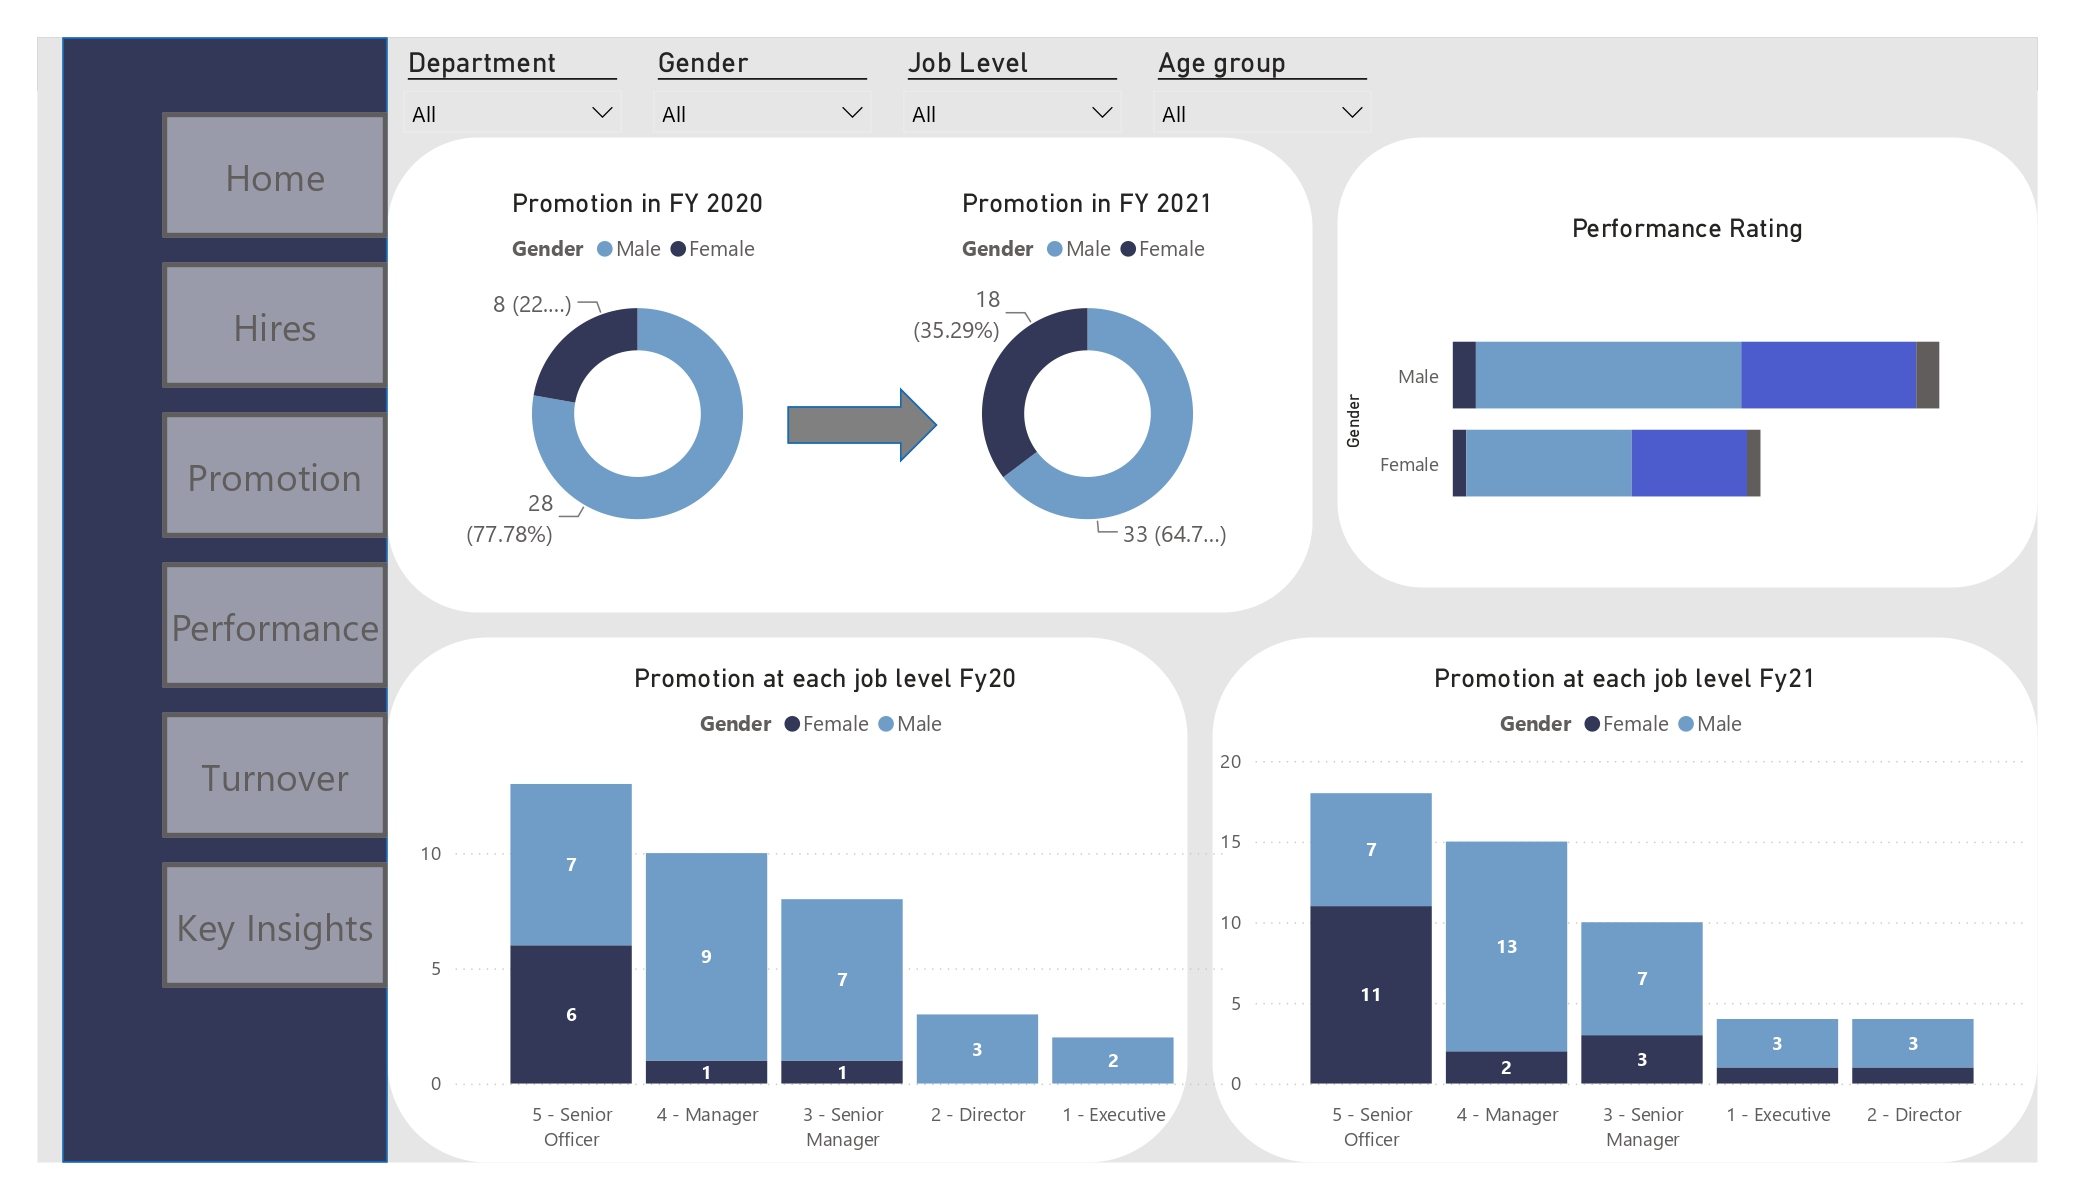

Layout of this report page (visuals, bound fields, positions):
{"tool":"powerbi","page":{"name":"Promotion","canvas":[1280,720],"ordinal":2},"visuals":[{"type":"shape","box":[832,64,448,288],"z":0},{"type":"shape","box":[752,384,528,336],"z":1000},{"type":"shape","box":[224,384,512,336],"z":2000},{"type":"shape","box":[224,64,592,304],"z":3000},{"type":"shape","box":[16,0,208,720],"z":4000},{"type":"actionButton","box":[80,144,144,80],"z":5000},{"type":"actionButton","box":[80,240,144,80],"z":6000},{"type":"actionButton","box":[80,336,144,80],"z":7000},{"type":"actionButton","box":[80,432,144,80],"z":8000},{"type":"actionButton","box":[80,528,144,80],"z":9000},{"type":"actionButton","box":[80,48,144,80],"z":10000},{"type":"slicer","fields":{"Values":["Pharma Group AG.Last Department in FY20"]},"box":[224,0,160,64],"z":11000},{"type":"slicer","fields":{"Values":["Pharma Group AG.Gender"]},"box":[384,0,160,64],"z":12000},{"type":"slicer","fields":{"Values":["Pharma Group AG.Job Level group for PRA"]},"box":[544,0,160,64],"z":13000},{"type":"slicer","fields":{"Values":["Pharma Group AG.Age group"]},"box":[704,0,160,64],"z":14000},{"type":"donutChart","title":"Promotion in FY 2020","fields":{"Category":["Pharma Group AG.Gender"],"Y":["Measure.no of promoted fy20"]},"box":[240,96,288,240],"z":15000},{"type":"donutChart","title":"Promotion in FY 2021","fields":{"Category":["Pharma Group AG.Gender"],"Y":["Measure.no of promoted fy21"]},"box":[528,96,288,240],"z":16000},{"type":"shape","box":[480,224,96,48],"z":17000},{"type":"columnChart","title":"Promotion at each job level Fy20","fields":{"Series":["Pharma Group AG.Gender"],"Category":["Pharma Group AG.Job Level after FY20 promotions"],"Y":["Measure.no of promoted fy20"]},"box":[240,400,528,320],"z":18000},{"type":"columnChart","title":"Promotion at each job level Fy21","fields":{"Series":["Pharma Group AG.Gender"],"Y":["Measure.no of promoted fy21"],"Category":["Pharma Group AG.Job Level after FY21 promotions"]},"box":[752,400,528,320],"z":19000},{"type":"barChart","title":"Performance Rating","fields":{"Category":["Pharma Group AG.Gender"],"Y":["CountNonNull(Pharma Group AG.Employee ID)"],"Series":["Pharma Group AG.FY20 Performance Rating"]},"box":[832,112,448,240],"z":20000}]}

Visuals, with their boxes on the page's 1280x720 design canvas (x1, y1, x2, y2). These are canvas units, not pixel positions in the 2075x1200 screenshot, which may show the page scaled, cropped or inside an application window:
shape: <box>832,64,1280,352</box>
shape: <box>752,384,1280,720</box>
shape: <box>224,384,736,720</box>
shape: <box>224,64,816,368</box>
shape: <box>16,0,224,720</box>
actionButton: <box>80,144,224,224</box>
actionButton: <box>80,240,224,320</box>
actionButton: <box>80,336,224,416</box>
actionButton: <box>80,432,224,512</box>
actionButton: <box>80,528,224,608</box>
actionButton: <box>80,48,224,128</box>
slicer - Pharma Group AG.Last Department in FY20: <box>224,0,384,64</box>
slicer - Pharma Group AG.Gender: <box>384,0,544,64</box>
slicer - Pharma Group AG.Job Level group for PRA: <box>544,0,704,64</box>
slicer - Pharma Group AG.Age group: <box>704,0,864,64</box>
"Promotion in FY 2020" donutChart: <box>240,96,528,336</box>
"Promotion in FY 2021" donutChart: <box>528,96,816,336</box>
shape: <box>480,224,576,272</box>
"Promotion at each job level Fy20" columnChart: <box>240,400,768,720</box>
"Promotion at each job level Fy21" columnChart: <box>752,400,1280,720</box>
"Performance Rating" barChart: <box>832,112,1280,352</box>
